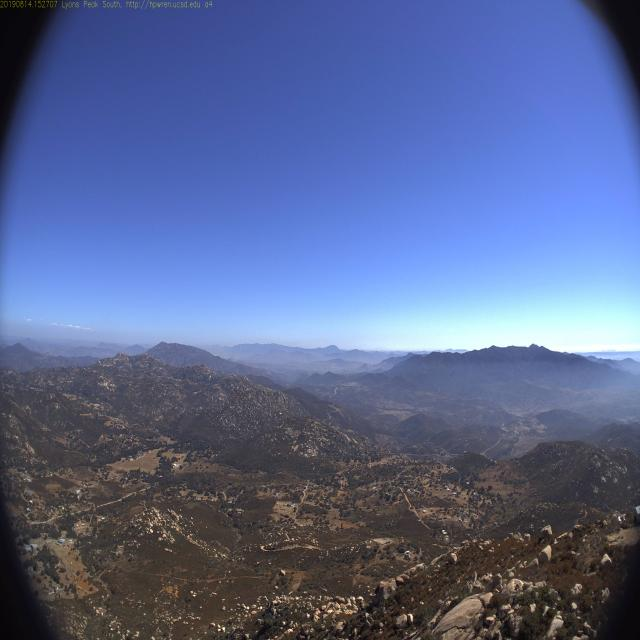smoke: (224, 346, 241, 370)
